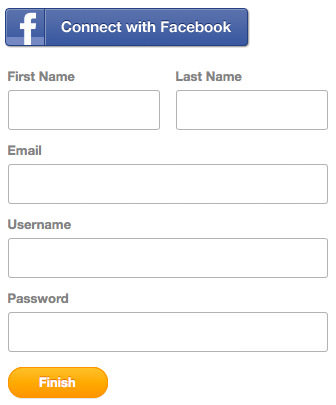button: (9, 366, 109, 397)
field: (7, 162, 329, 205), (6, 236, 329, 278), (7, 311, 329, 352), (174, 88, 329, 132), (6, 88, 160, 132)
